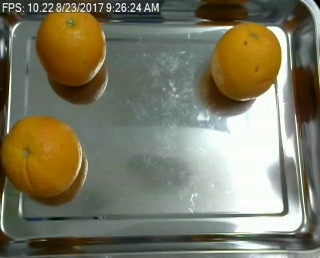Orange: (3, 115, 83, 198), (209, 20, 283, 101), (35, 11, 107, 85)
